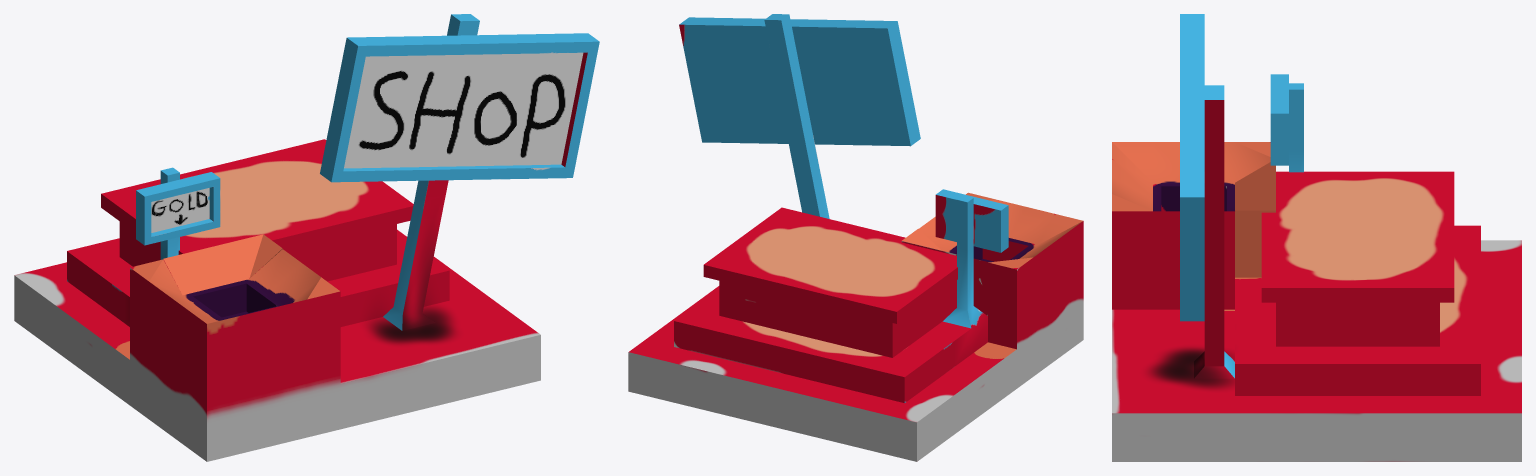
File: shop.fbx
The picture shows the model from 3 angles, left to right: view 1: azimuth 30°, elevation 25°; view 2: azimuth 150°, elevation 25°; view 3: azimuth 270°, elevation 25°; orthographic projection. The views are drawn at different scales.
Visible parts, largest first — view 1: Cube; view 2: Cube; view 3: Cube.
Boxes of the visible parts, x1=… form: Cube: x1=14, y1=14, x2=599, y2=461; Cube: x1=628, y1=14, x2=1083, y2=461; Cube: x1=1112, y1=14, x2=1521, y2=461.
Bounding box in the file's own units: 254 × 199 × 200.
Materials: 1 (1 with a texture image).
